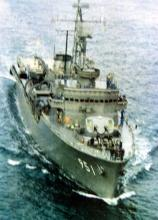warship: (12, 2, 132, 198)
